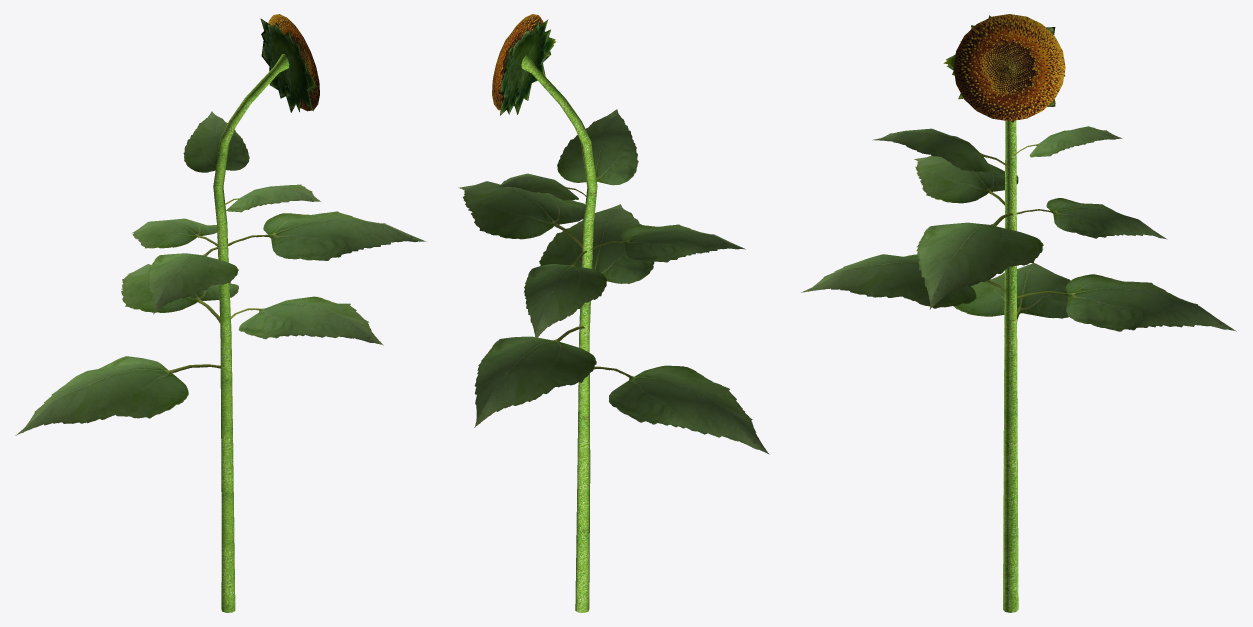
File: stalk.obj
3 views of the same model, side by side, from view 1: azimuth 30°, elevation 25°; view 2: azimuth 150°, elevation 25°; view 3: azimuth 270°, elevation 25° (orthographic). The views are drawn at different scales.
Parts seen in each view (by area): view 1: obj1.009, obj1.013, obj1.007, obj1.004, obj1.010, obj1, obj1.006, obj1.011, obj1.008, obj1.005, obj1.012; view 2: obj1.009, obj1.011, obj1.013, obj1.007, obj1.004, obj1.008, obj1.005, obj1.010, obj1, obj1.012, obj1.006; view 3: obj1.012, obj1.007, obj1.013, obj1.011, obj1.004, obj1.009, obj1.010, obj1.008, obj1.005, obj1.006.
Boxes of the visible parts, x1,y1,x2,y2 form: obj1.009: (15,356,221,435); obj1.013: (213,54,289,612); obj1.007: (228,211,426,260); obj1.004: (229,296,383,345); obj1.010: (147,247,238,314); obj1: (260,18,316,112); obj1.006: (183,111,249,172); obj1.011: (121,264,238,322); obj1.008: (131,218,217,248); obj1.005: (224,184,320,212); obj1.012: (268,14,319,111); obj1.009: (594,365,769,454); obj1.011: (474,326,596,427); obj1.013: (521,54,597,612); obj1.007: (458,181,585,248); obj1.004: (539,204,654,283); obj1.008: (524,250,606,340); obj1.005: (557,109,638,185); obj1.010: (591,224,745,262); obj1: (499,17,555,115); obj1.012: (492,14,544,110); obj1.006: (496,173,586,200); obj1.012: (953,14,1065,121); obj1.007: (916,213,1043,309); obj1.013: (1003,120,1018,612); obj1.011: (1016,274,1236,331); obj1.004: (801,254,1006,308); obj1.009: (954,263,1070,321); obj1.010: (914,155,1018,205); obj1.008: (1016,198,1167,239); obj1.005: (872,128,1009,172); obj1.006: (1013,126,1122,157).
Bounding box in the file's own units: 138 × 209 × 133.
Materials: 1 (1 with a texture image).
